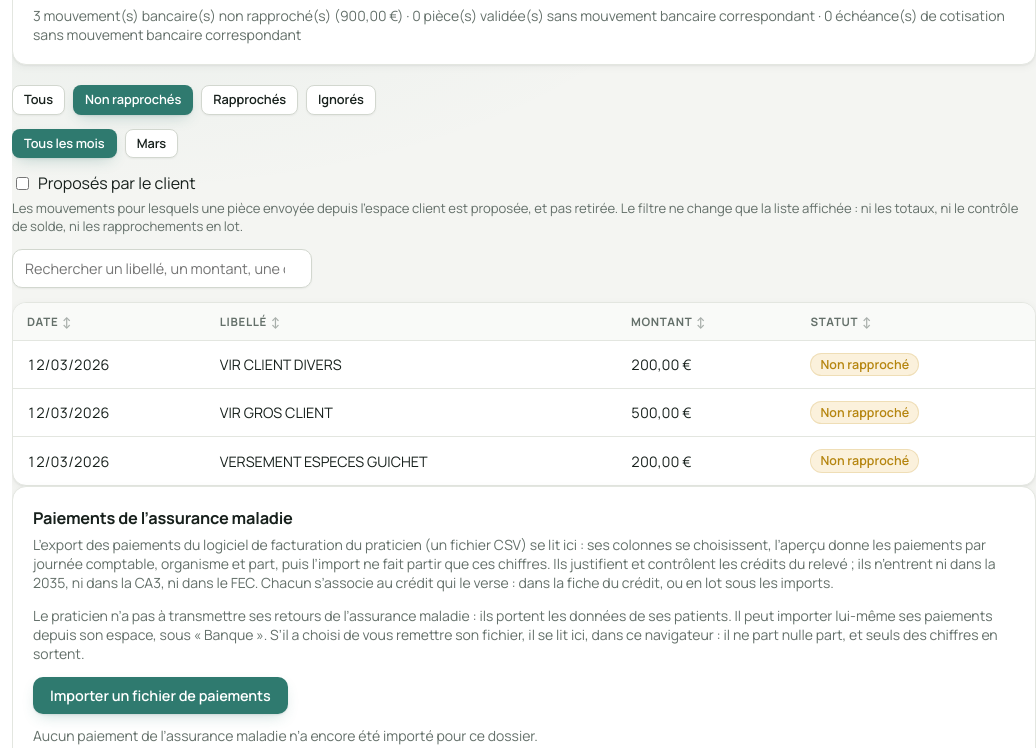
Test: un crédit dont le libellé dit un versement d’espèces › un libellé qui n’en dit rien, ou un débit : rien de plus
(page scrolled)
Click the row "12/03/2026 VIR CLIENT DIVERS 200,00 € Non rapproché". click: (524, 364)
box: [13,340,1035,388]
(page scrolled)
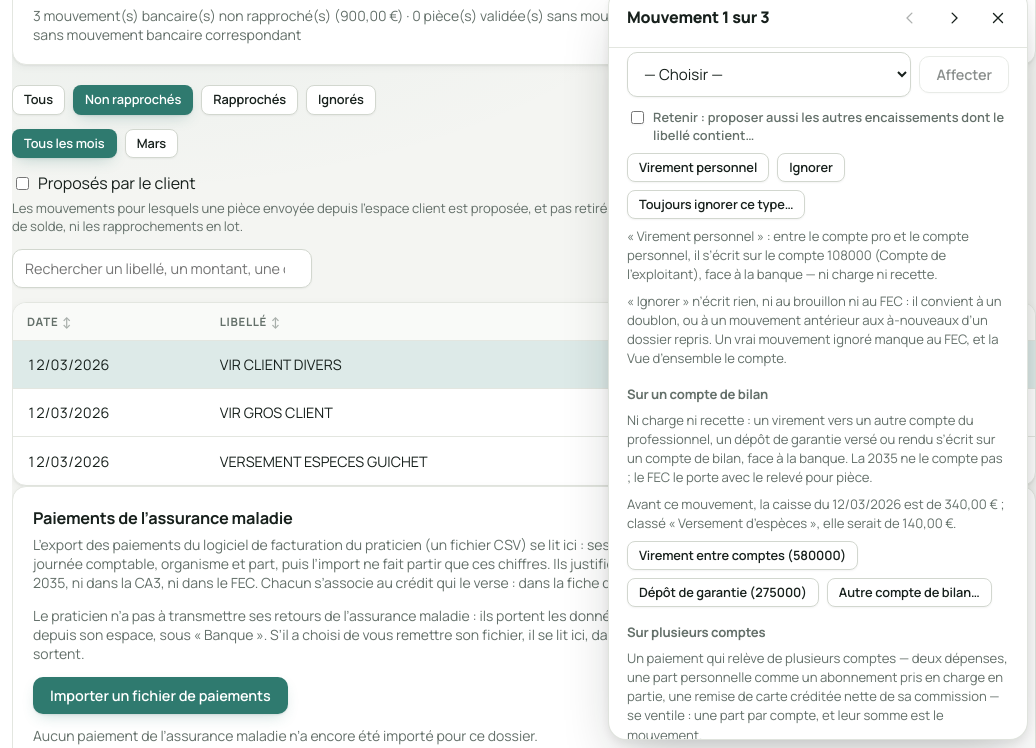
Expected: the heading "Sur un compte de bilan" is shown, [627,384,768,402]
